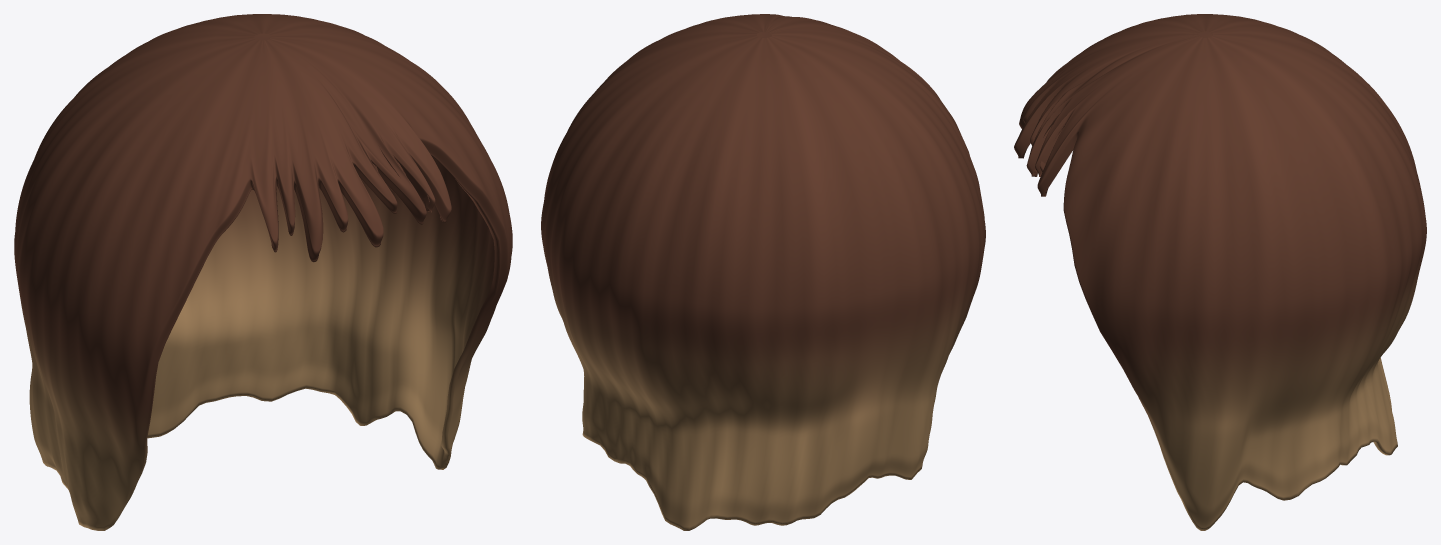
Rendered from side-sweep-none-ombre.glb.
3 renders of one model, left to right at view 1: azimuth 30°, elevation 25°; view 2: azimuth 150°, elevation 25°; view 3: azimuth 270°, elevation 25°, orthographic. The views are drawn at different scales.
Parts seen in each view (by area): view 1: Hair / layered lob; view 2: Hair / layered lob; view 3: Hair / layered lob.
Boxes of the visible parts, <box> form: Hair / layered lob: <box>14,14,512,530</box>; Hair / layered lob: <box>541,14,985,530</box>; Hair / layered lob: <box>1014,14,1426,530</box>.
Bounding box in the file's own units: 0.8388 × 0.8786 × 0.782.
